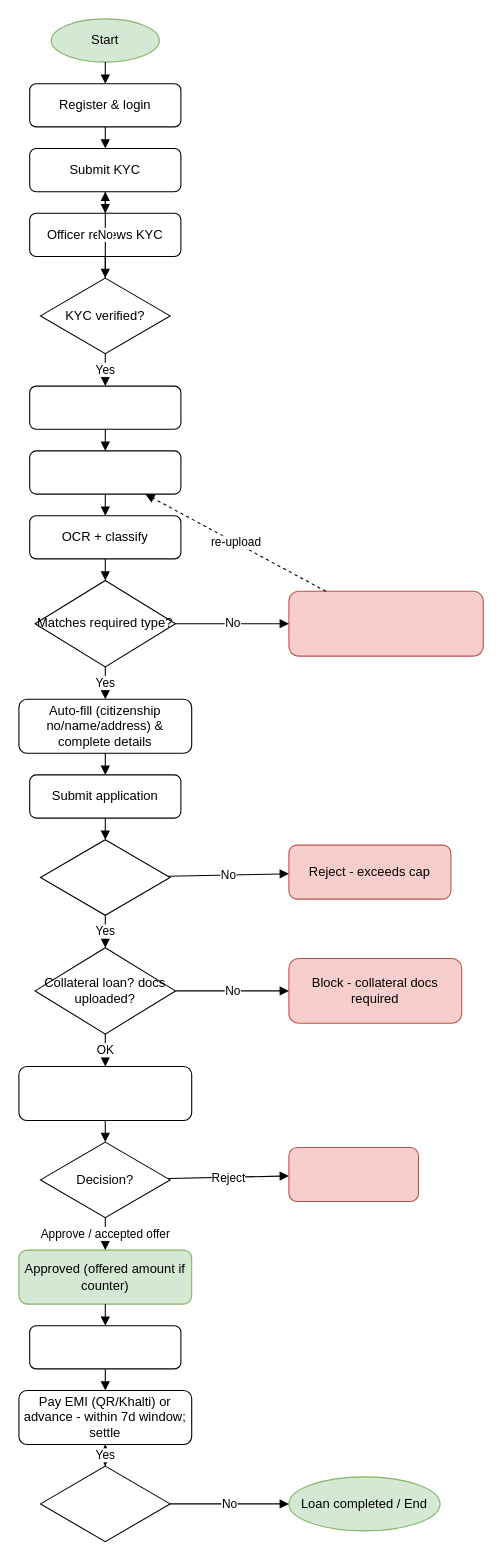
Some shapes in this 502 by 1561 pixel diagram are drawn without their labels. The shapes that lost their labels are listed below. From the top down, each one's centre as x and y in pixels, then its label:
pixel 105 407: Choose loan type
pixel 105 472: Upload documents
pixel 385 623: Deny: "Doesnot look like required document"
pixel 104 877: Within salary cap?
pixel 105 1092: Officer reviews app / docs / risk / name-match
pixel 353 1174: Rejected
pixel 105 1347: Create loan account (disbursed)
pixel 104 1503: Outstanding > 0?
